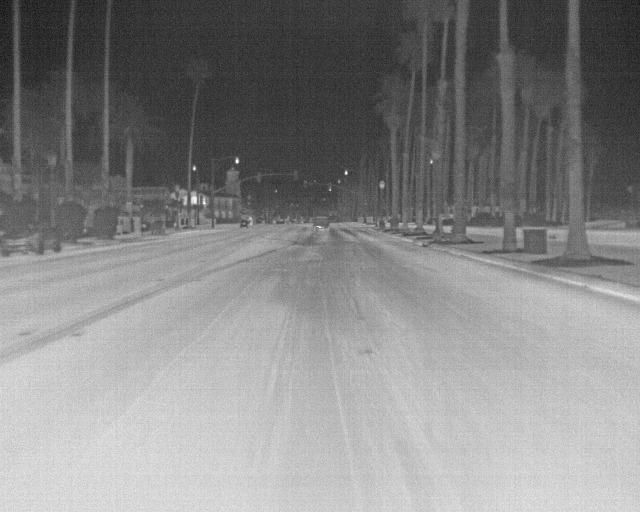car: (0, 223, 62, 258), (312, 214, 331, 228)
